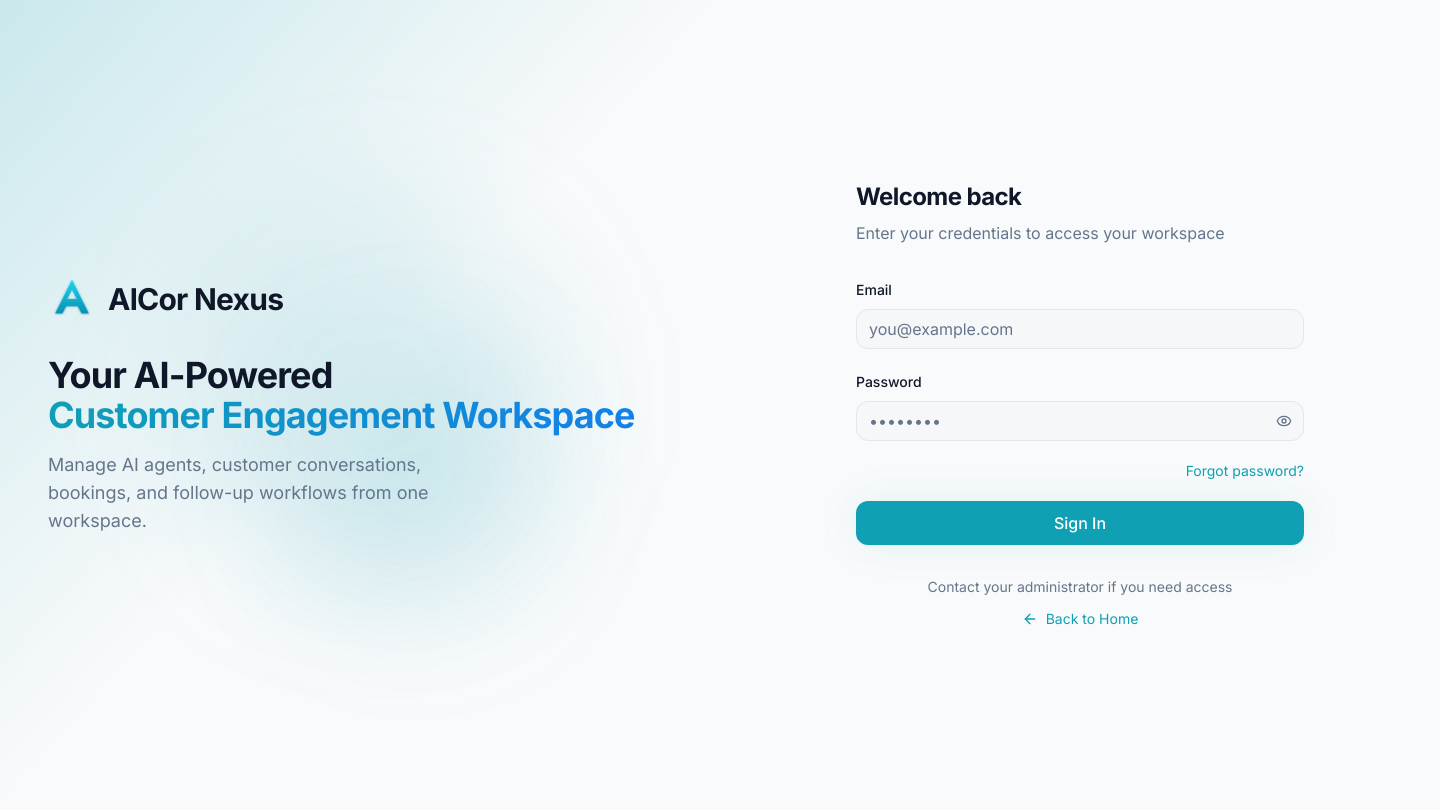
Scenario: Auth Page › handleSubmit - Sign In › disables inputs during loading
In the field labelled "Email": coordinates (1080, 329) [856,309,1304,349], type "test@example.com"
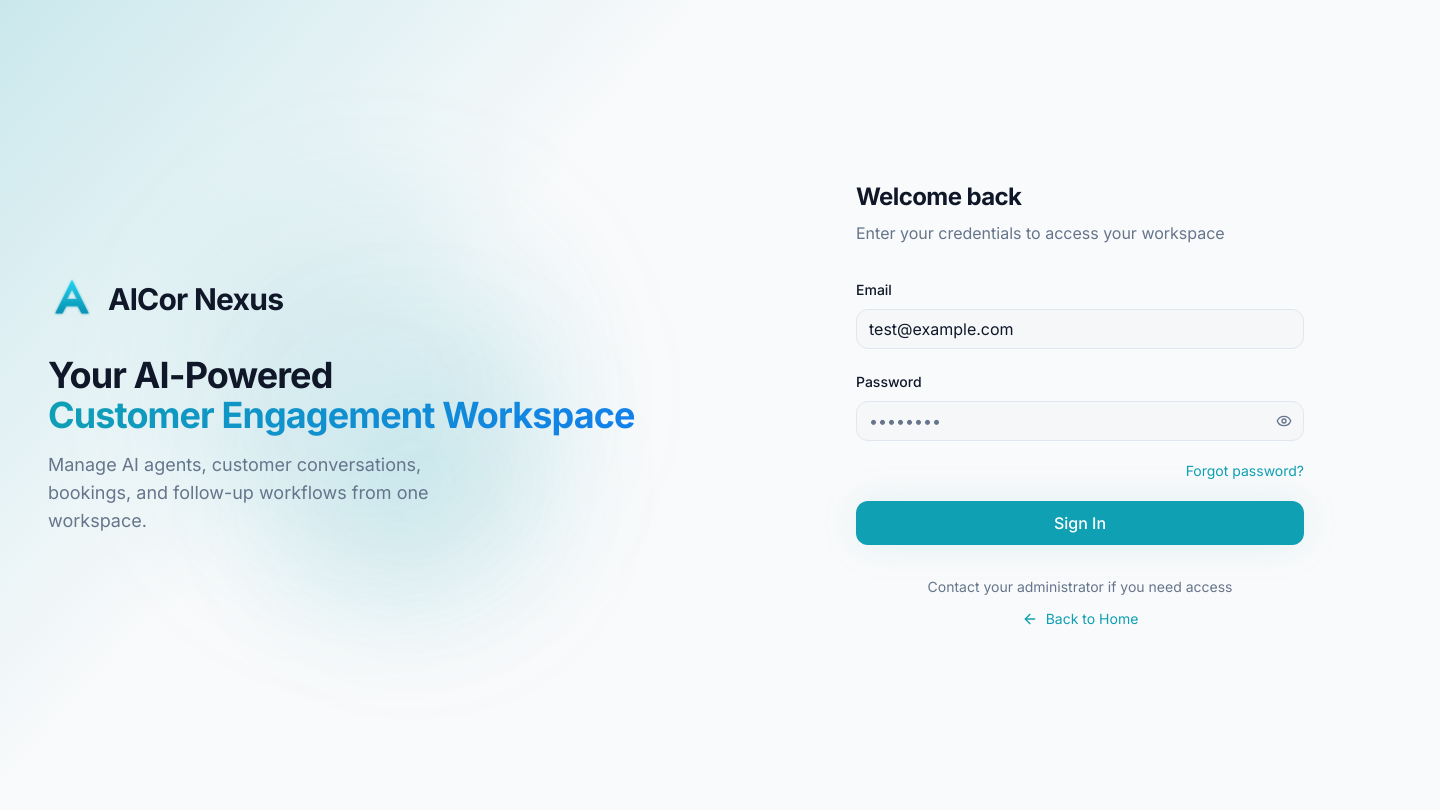
In the password field labelled "Password": coordinates (1080, 421) [856,401,1304,441], type "password123"
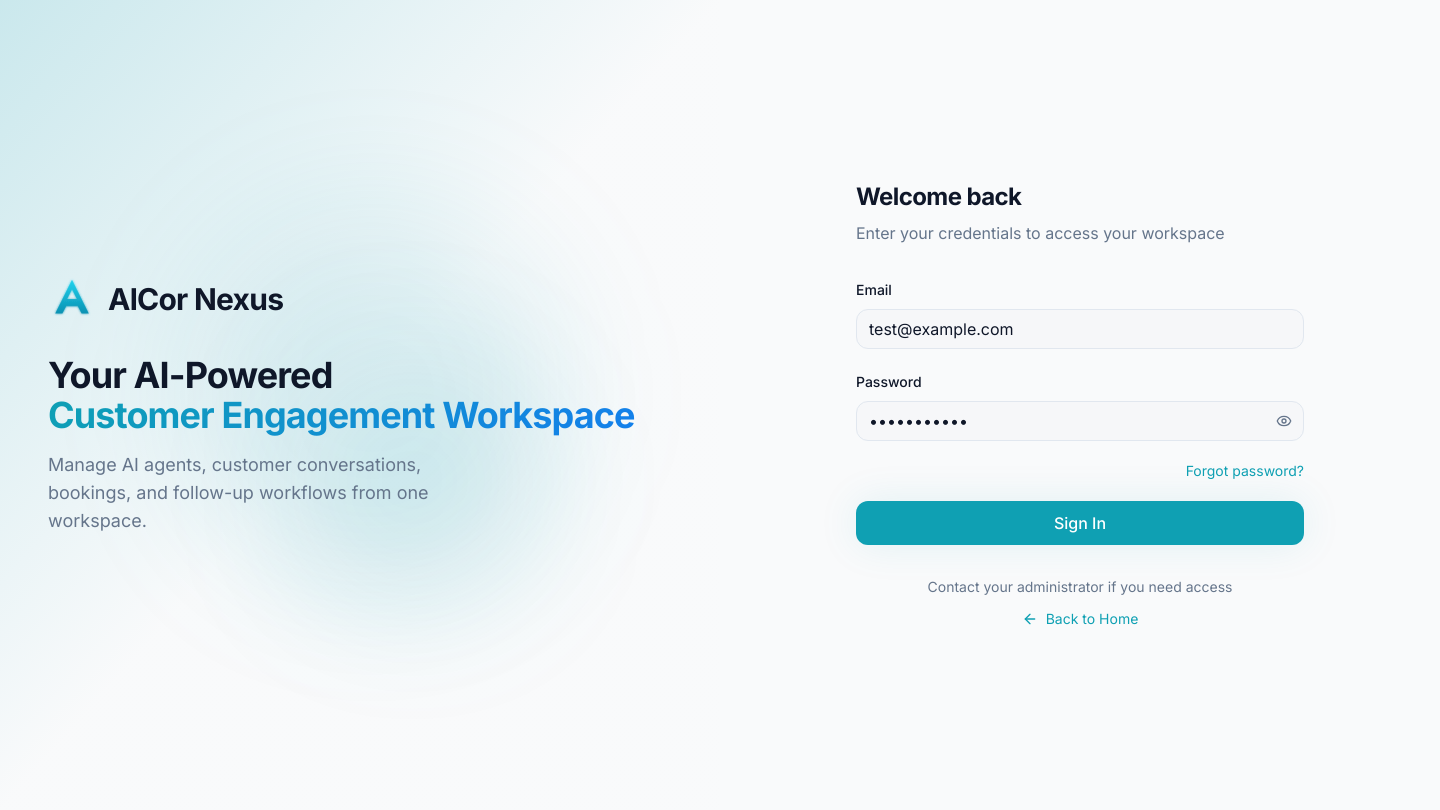
Click the button "Sign In": coordinates (1080, 523) [856,501,1304,545]
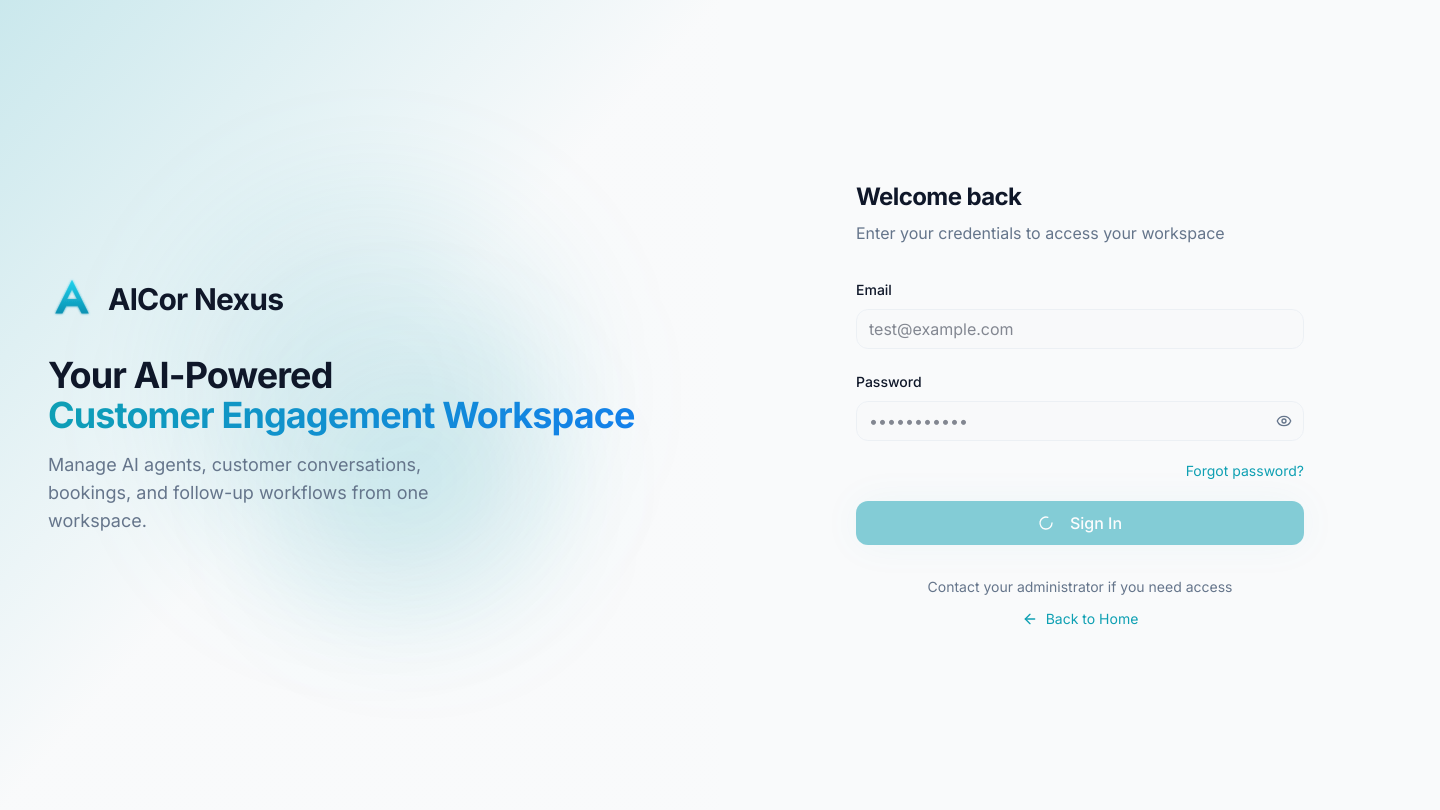
Result: the field labelled "Email" is disabled at [856,309,1304,349]
Result: the password field labelled "Password" is disabled at [856,401,1304,441]
